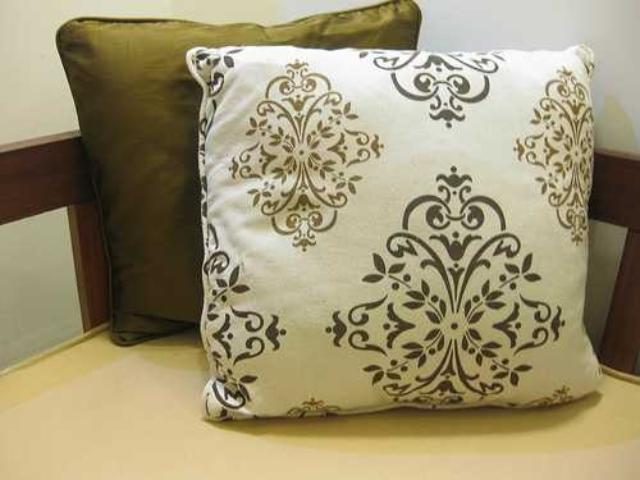pillow: (184, 42, 604, 422), (54, 0, 422, 346)
